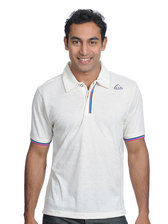clothoes: (32, 61, 148, 218)
